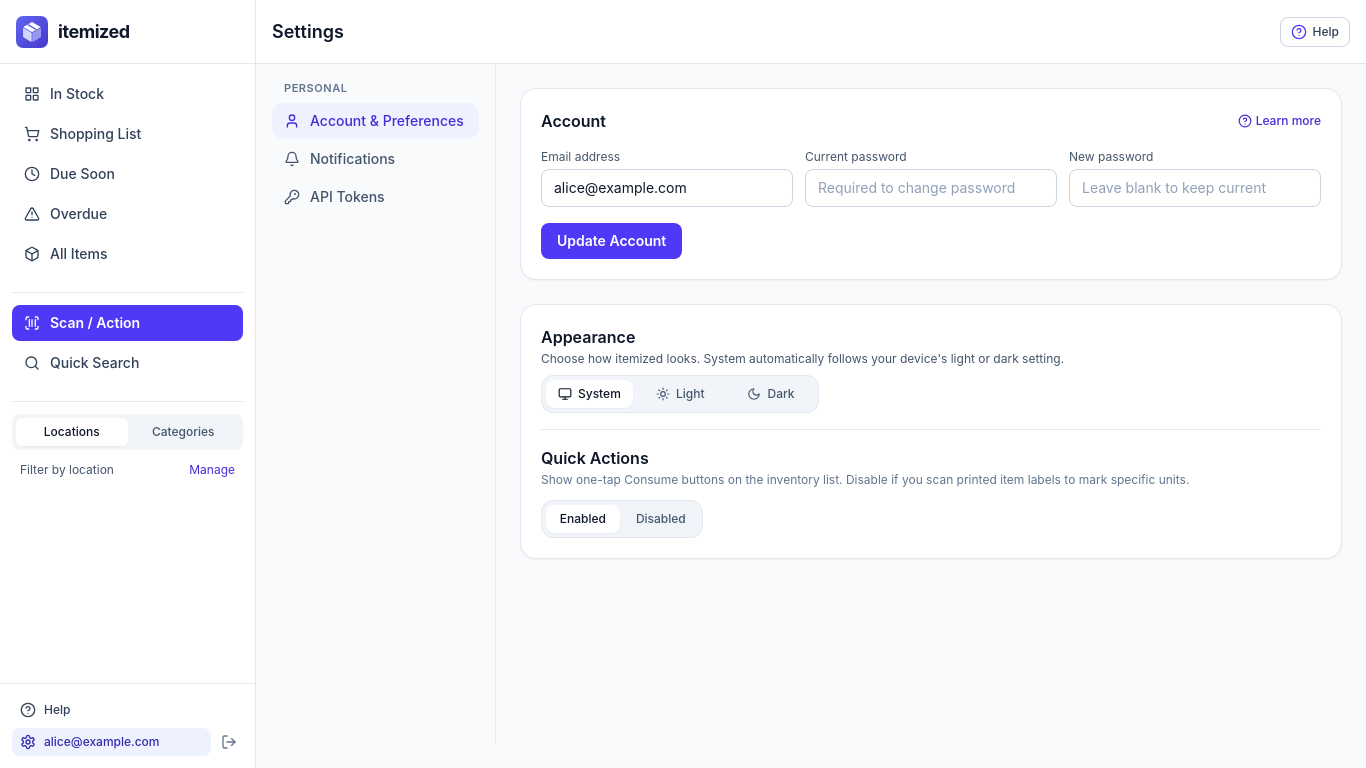
Test case: AppRoutes logout behavior › clears non-auth queries, resets route to /, and immediately shows the login screen on logout
(page scrolled)
Click the button named "Logout". click: click(229, 742)
box: [215,728,243,756]
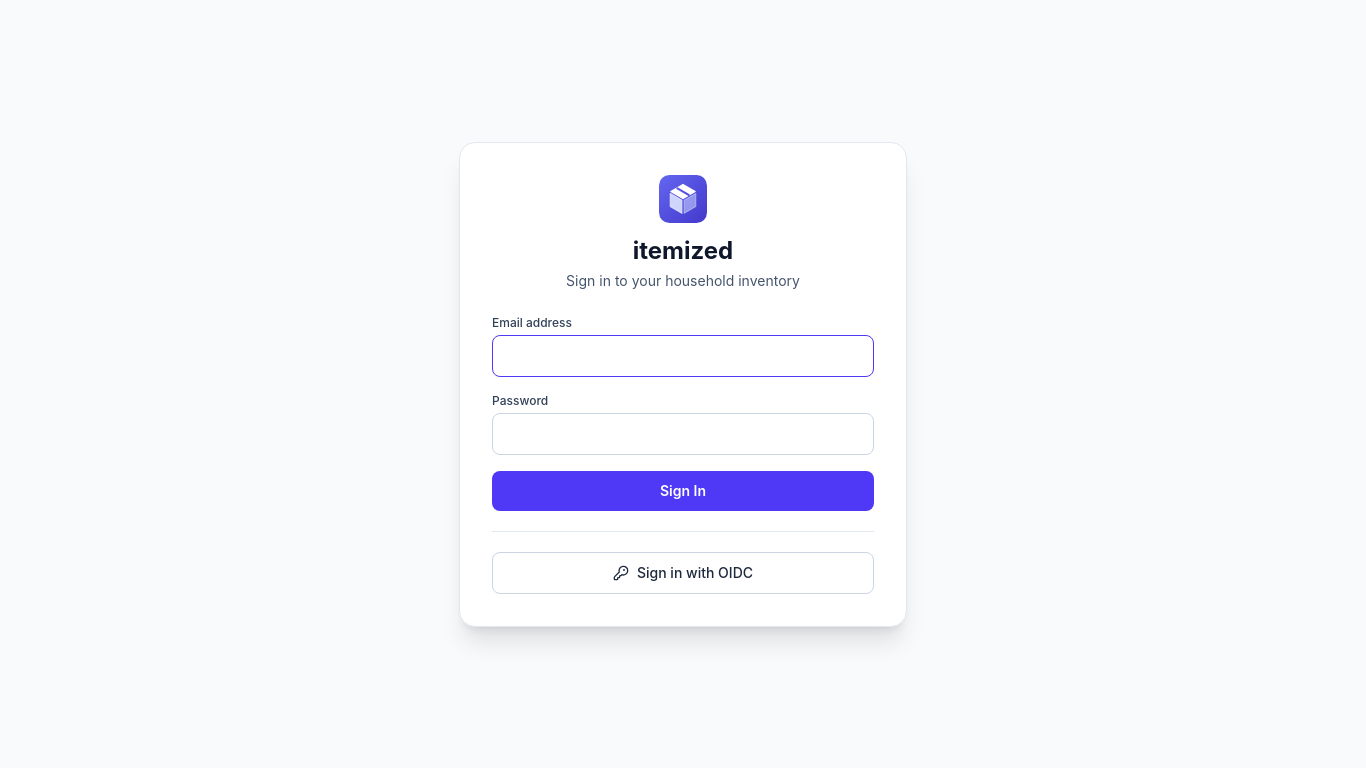
Expected: the field labelled "Email address" is shown, [492,334,874,376]
Expected: the link "Sign in with OIDC" is shown, [492,552,874,594]
